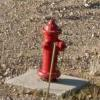Hydrant: (33, 13, 71, 82)
